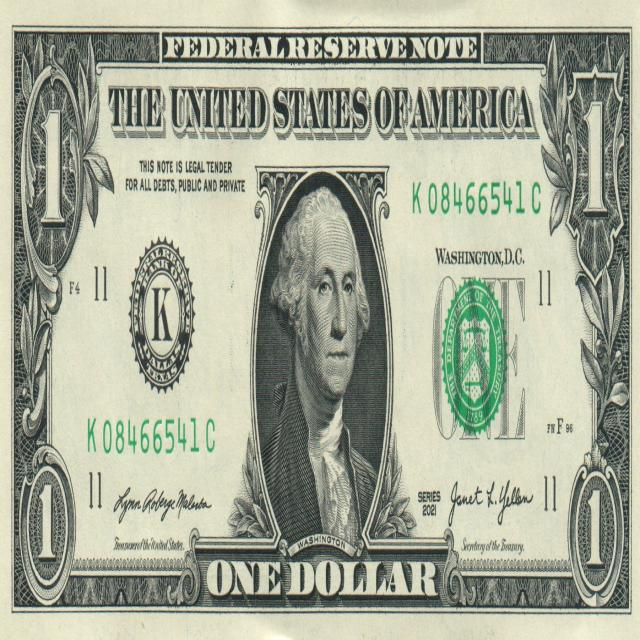SerialNumber: (88, 418, 214, 454), (412, 181, 540, 215)
